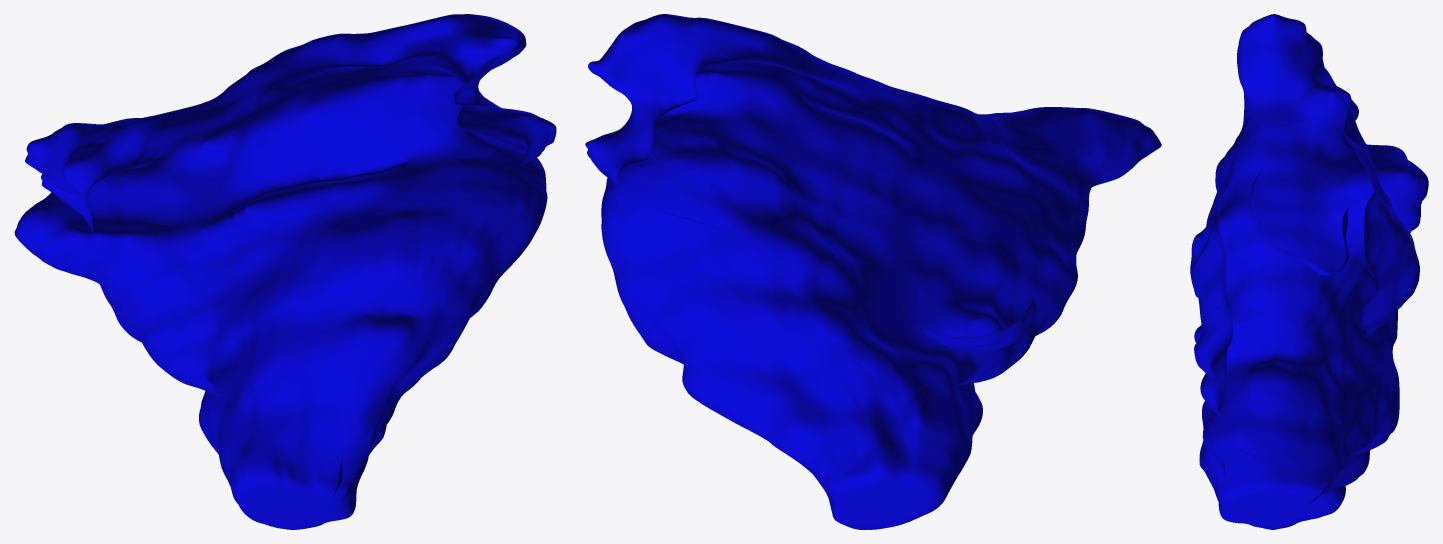
Rendered from CMRAF_26_model_AR.glb.
The picture shows the model from 3 angles, left to right: view 1: azimuth 30°, elevation 25°; view 2: azimuth 150°, elevation 25°; view 3: azimuth 270°, elevation 25°; orthographic projection. The views are drawn at different scales.
Visible parts, largest first — view 1: CMRAF_26_model_AR.ply; view 2: CMRAF_26_model_AR.ply; view 3: CMRAF_26_model_AR.ply.
Part boxes in pixels (left/top/right/bottom): CMRAF_26_model_AR.ply: left=14, top=14, right=556, bottom=529; CMRAF_26_model_AR.ply: left=585, top=14, right=1161, bottom=529; CMRAF_26_model_AR.ply: left=1190, top=14, right=1428, bottom=529.
Size of the model in its own units: 110 by 84.8 by 47.48.
